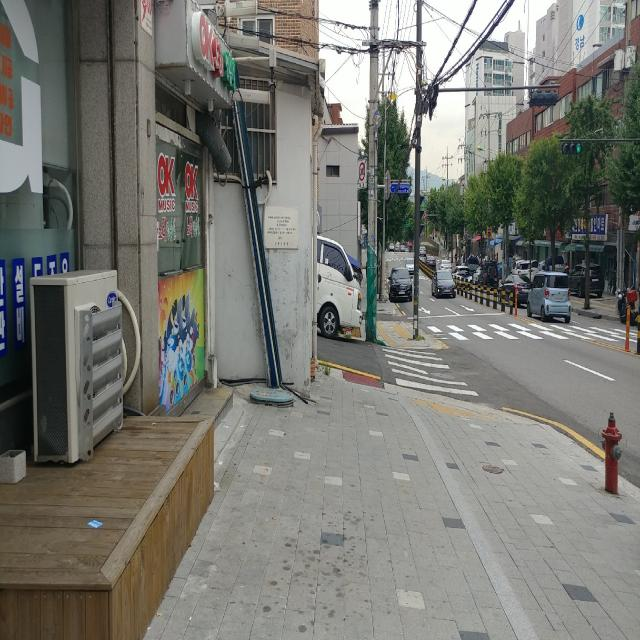횡단보도: (380, 345, 479, 396), (424, 323, 631, 346)
